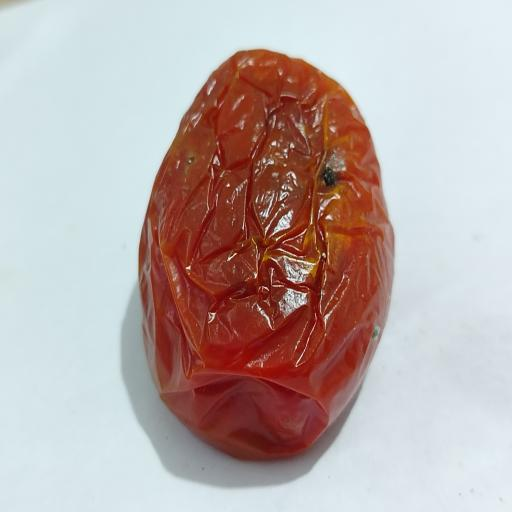spoiled: (139, 51, 394, 458)
